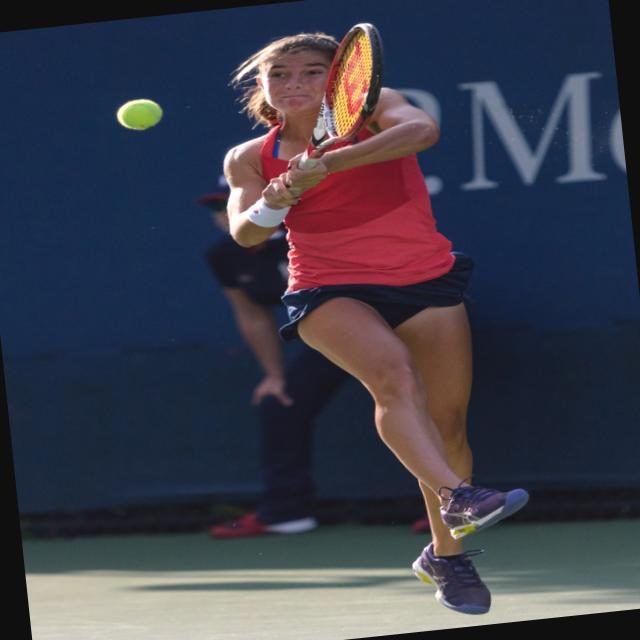Tennis Ball: (112, 97, 163, 134)
